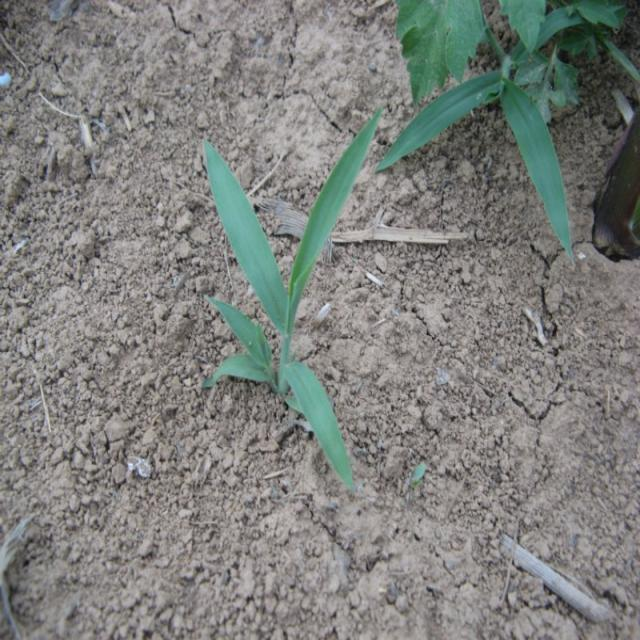bg: (192, 114, 377, 480)
